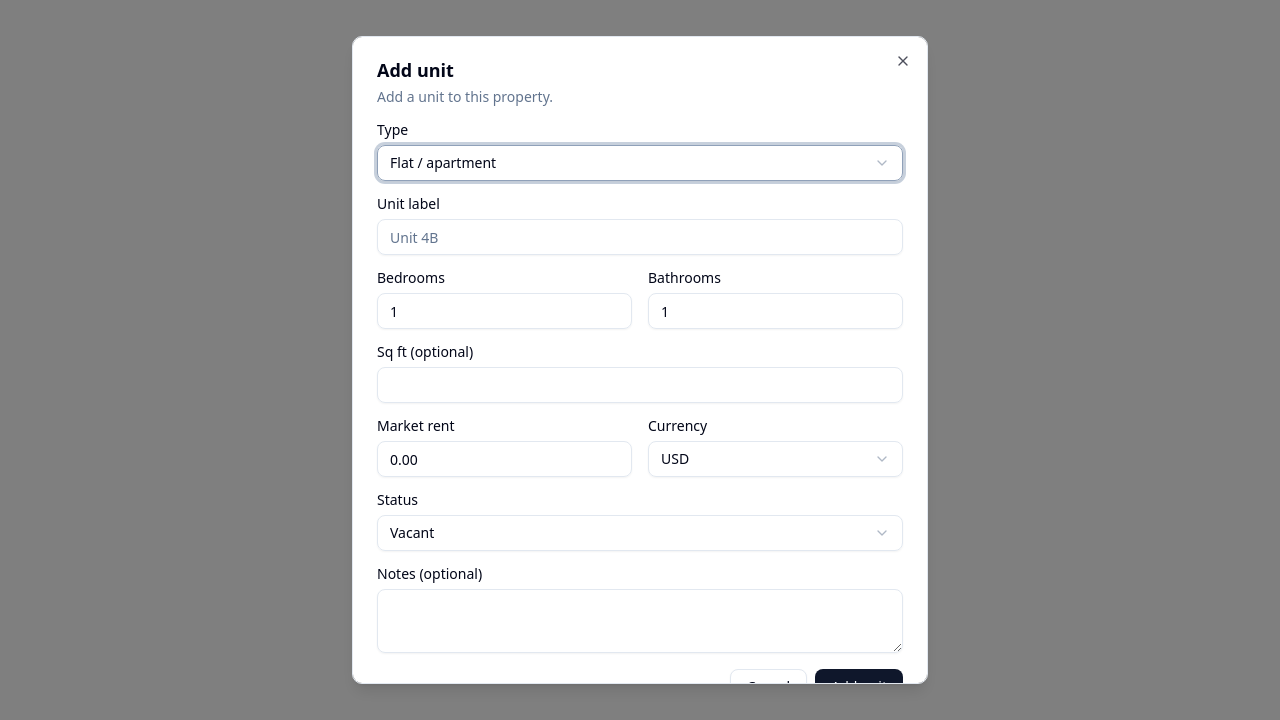
Test: UnitFormDialog › a shutter asks for neither bedrooms nor bathrooms
Click the dropdown named "type" at (443, 162), box x1=377 y1=145 x2=903 y2=181
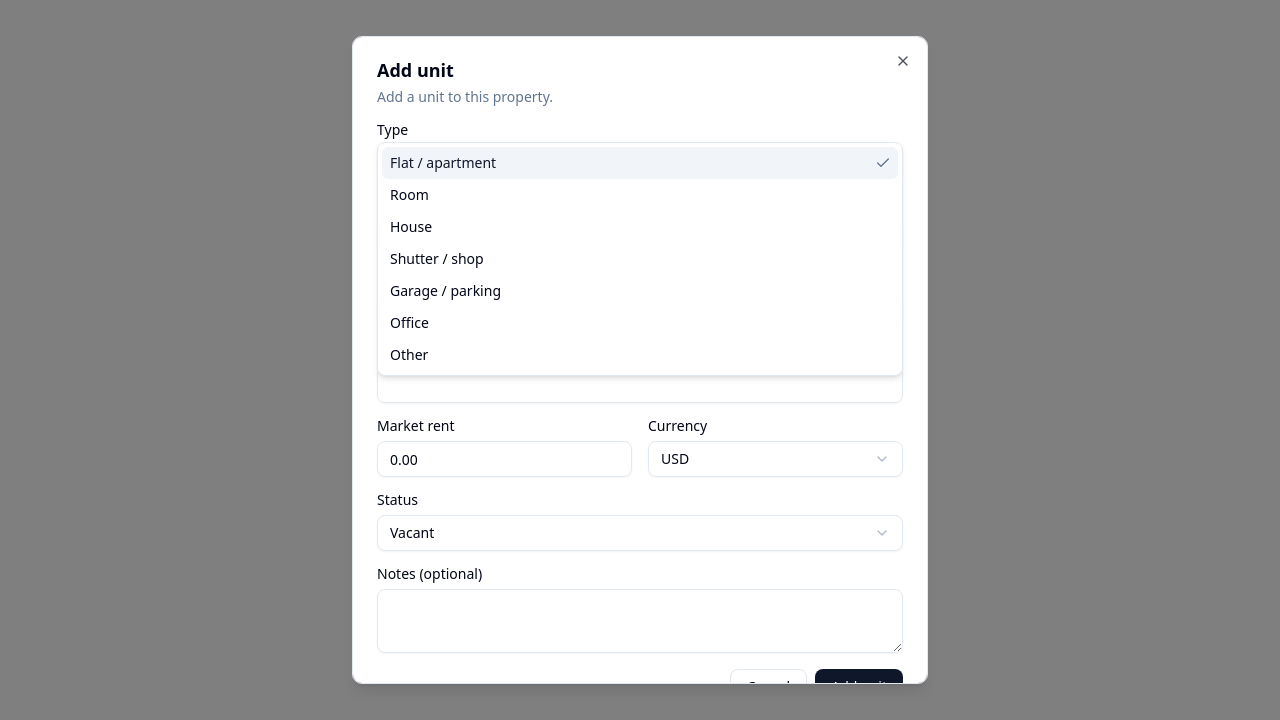
Click the option "Shutter / shop" at (437, 258), box x1=390 y1=249 x2=484 y2=268
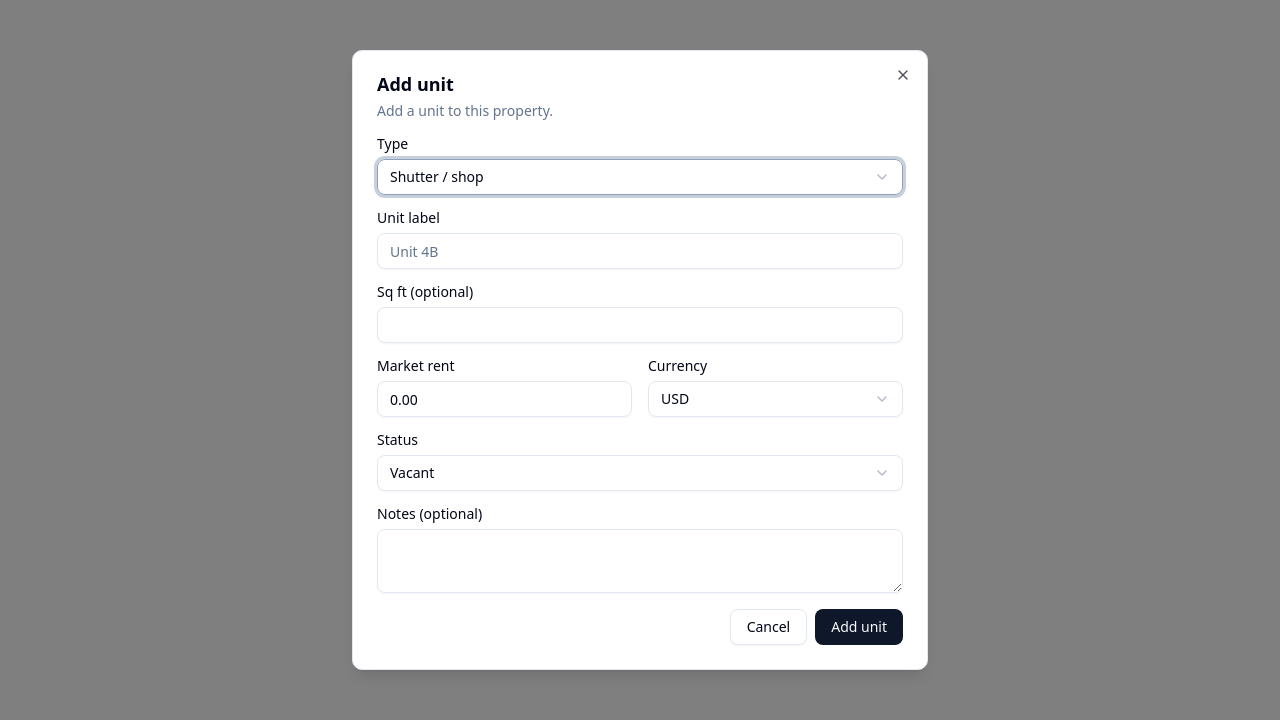
Result: the label labelled "Bedrooms" is gone
Result: the label labelled "Bathrooms" is gone
